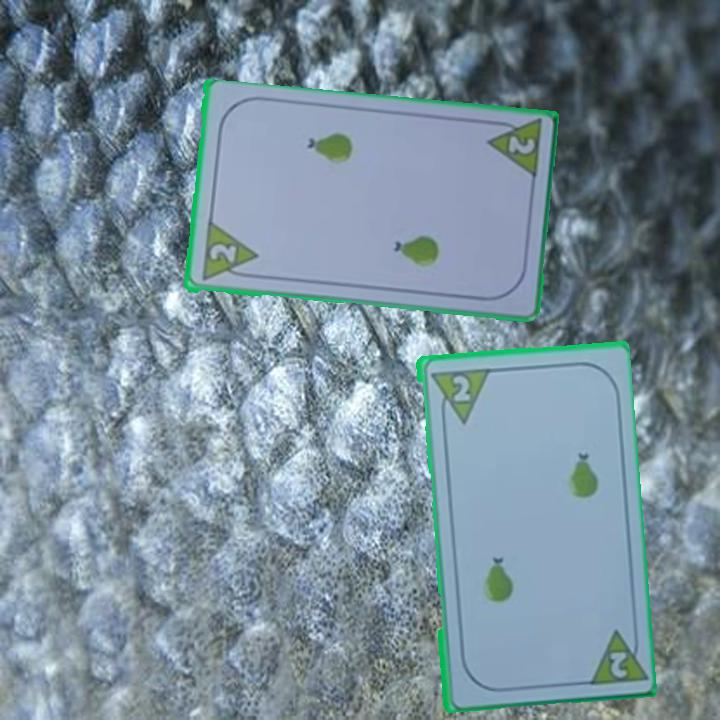2p: (482, 117, 545, 183), (205, 240, 240, 267), (447, 371, 473, 404), (605, 647, 630, 681)
